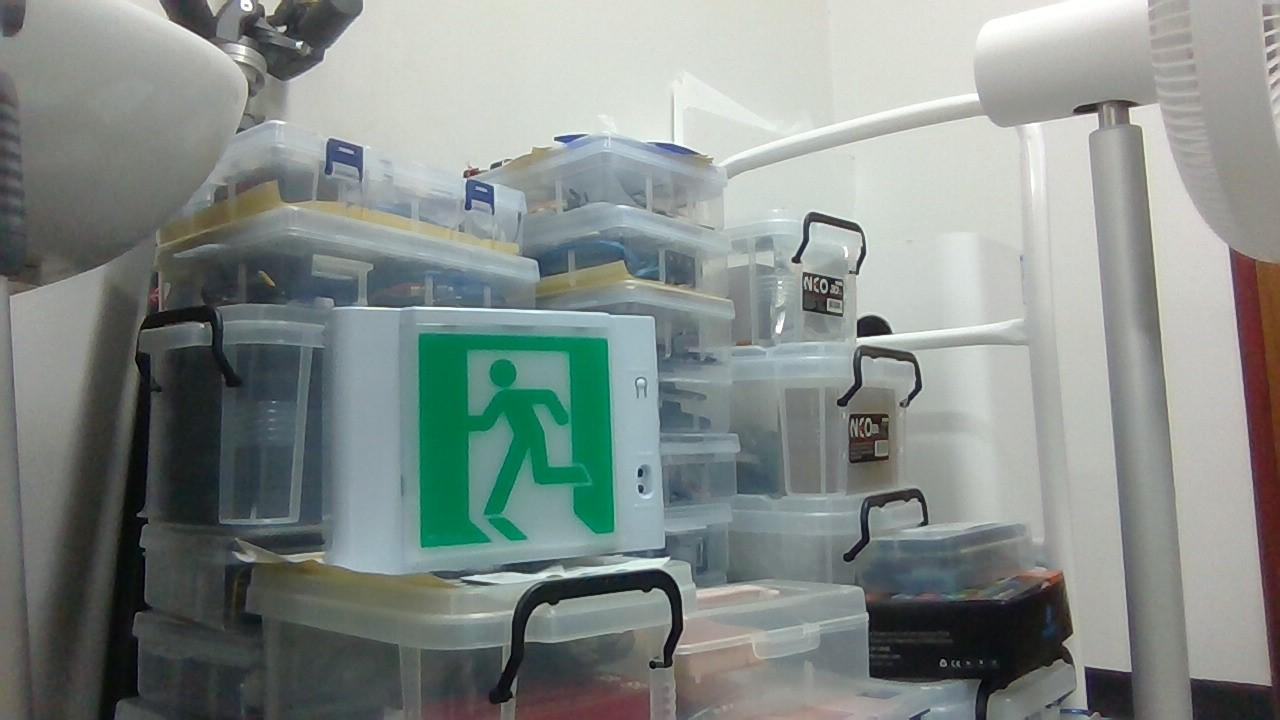emergency_exit: (322, 304, 668, 576), (409, 326, 619, 553), (800, 270, 846, 317)
